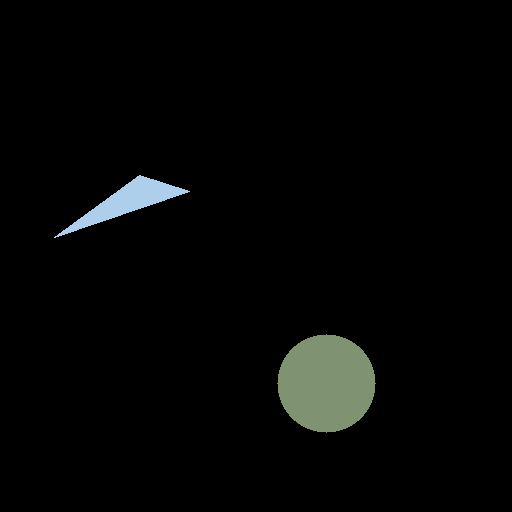circle: (277, 334, 375, 432)
triangle: (54, 175, 189, 237)
